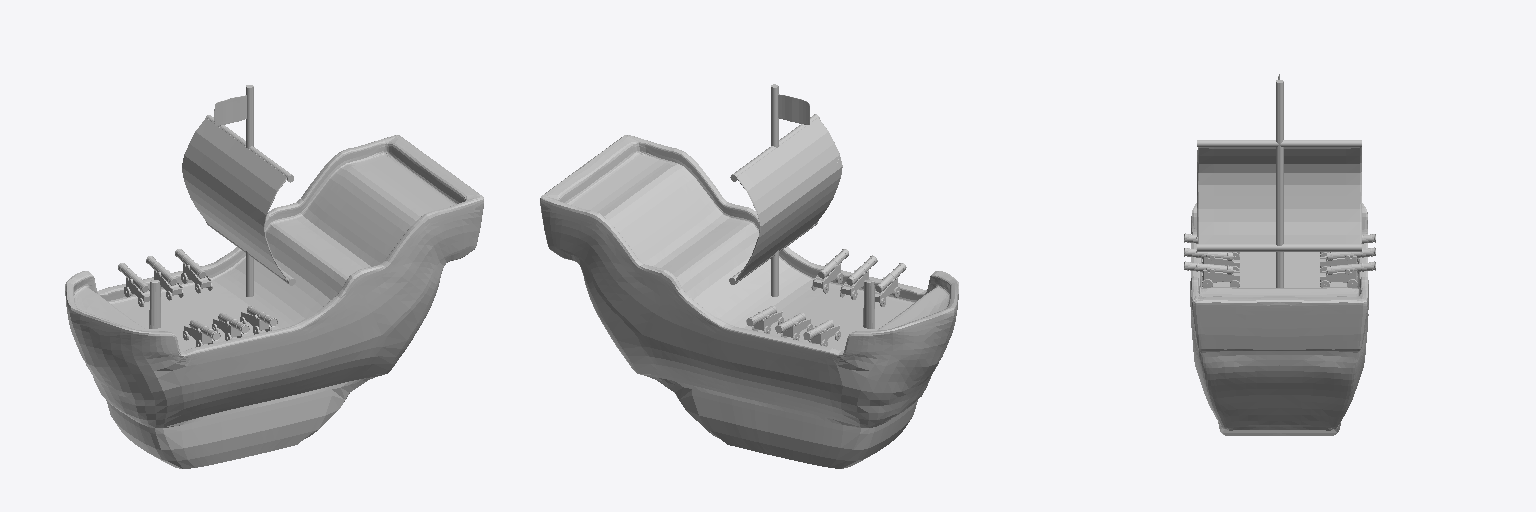
The model's file is ghost pirate ship upgrade1.obj.
The picture shows the model from 3 angles: view 1: azimuth 30°, elevation 25°; view 2: azimuth 150°, elevation 25°; view 3: azimuth 270°, elevation 25°; orthographic projection.
Visible parts, largest first — view 1: pasted__pCube1, pasted__pPlane2, pasted__pCylinder1, pasted__pPlane3, pasted__pCylinder4, pasted__pCylinder2; view 2: pasted__pCube1, pasted__pPlane2, pasted__pCylinder1, pasted__pPlane3, pasted__pCylinder4, pasted__pCylinder2; view 3: pasted__pCube1, pasted__pPlane2, pasted__pCylinder1, pasted__pCylinder3, pasted__pCylinder2.
Part boxes in pixels (left/top/right/bottom): pasted__pCube1: left=65, top=135, right=483, bottom=468; pasted__pPlane2: left=182, top=118, right=288, bottom=280; pasted__pCylinder1: left=118, top=85, right=277, bottom=340; pasted__pPlane3: left=214, top=95, right=246, bottom=125; pasted__pCylinder4: left=138, top=280, right=200, bottom=328; pasted__pCylinder2: left=129, top=115, right=293, bottom=333; pasted__pCube1: left=540, top=135, right=958, bottom=468; pasted__pPlane2: left=736, top=118, right=842, bottom=281; pasted__pCylinder1: left=746, top=84, right=906, bottom=340; pasted__pPlane3: left=778, top=94, right=809, bottom=124; pasted__pCylinder4: left=778, top=279, right=874, bottom=340; pasted__pCylinder2: left=730, top=114, right=894, bottom=333; pasted__pCube1: left=1190, top=203, right=1368, bottom=435; pasted__pPlane2: left=1197, top=147, right=1361, bottom=243; pasted__pCylinder1: left=1184, top=80, right=1375, bottom=287; pasted__pCylinder3: left=1197, top=244, right=1361, bottom=287; pasted__pCylinder2: left=1197, top=140, right=1361, bottom=274.
Bounding box in the file's own units: 12.24 × 10.78 × 5.48.